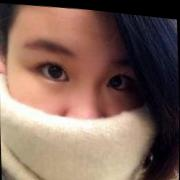WRONG: (5, 18, 157, 180)
